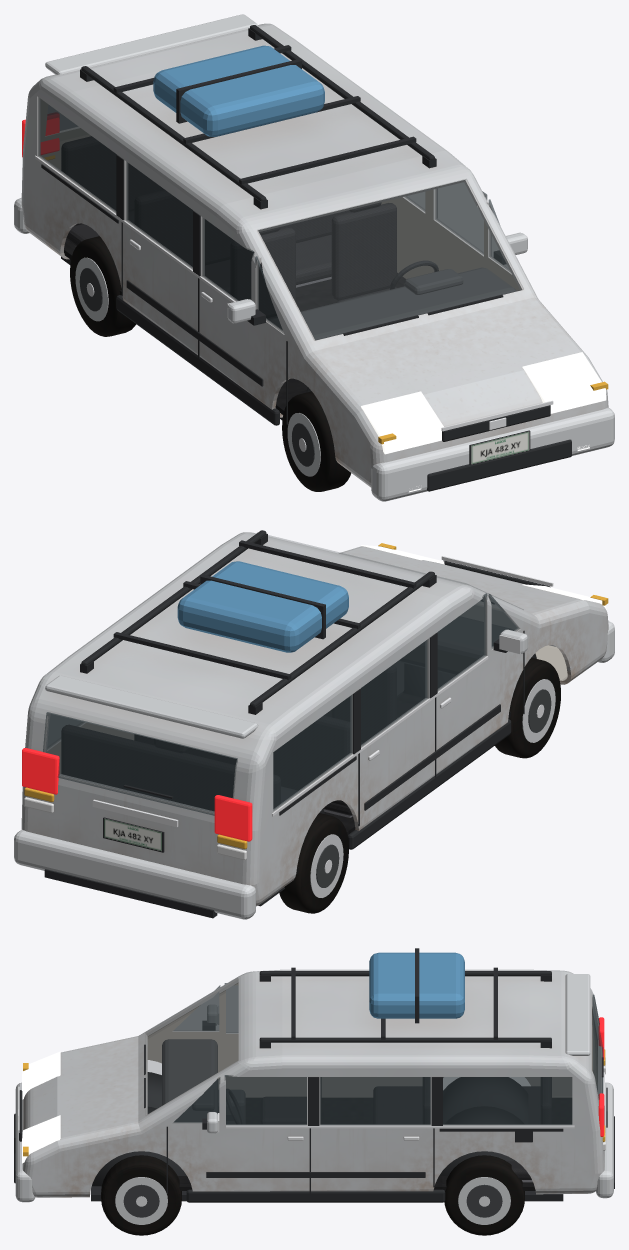
File: sienna.glb
3 views of the same model, one above another, from view 1: azimuth 30°, elevation 25°; view 2: azimuth 150°, elevation 25°; view 3: azimuth 270°, elevation 25° (orthographic). The views are drawn at different scales.
Visible parts, largest first — view 1: body, glass_windscreen, interior_seat_fabric_grey, sienna_root_black_plastic, sienna_root_glass, sienna_root_body_paint_silver, luggage_bag, interior_dashboard, sienna_root_headlamp_lens, sienna_body_inner, wheel_FR_tyre, wheel_RR_tyre (+7 smaller); view 2: body, sienna_root_glass, sienna_root_black_plastic, interior_seat_fabric_grey, sienna_root_body_paint_silver, luggage_bag, sienna_root_tail_red, interior_dashboard, wheel_RR_tyre, wheel_FR_tyre, sienna_root_chrome, sienna_root_number_plate (+9 smaller); view 3: body, sienna_root_glass, sienna_root_black_plastic, glass_windscreen, luggage_bag, sienna_body_inner, interior_seat_fabric_grey, sienna_root_body_paint_silver, interior_dashboard, wheel_FL_tyre, wheel_RL_tyre, floor (+7 smaller).
Part boxes in pixels (box(x1,y1,x2,y2)): body: box(21, 23, 608, 487); glass_windscreen: box(257, 179, 523, 340); interior_seat_fabric_grey: box(61, 136, 396, 319); sienna_root_black_plastic: box(41, 25, 571, 491); sienna_root_glass: box(38, 97, 510, 333); sienna_root_body_paint_silver: box(14, 14, 614, 501); luggage_bag: box(153, 45, 324, 136); interior_dashboard: box(269, 267, 516, 340); sienna_root_headlamp_lens: box(361, 352, 606, 492); sienna_body_inner: box(41, 99, 520, 413); wheel_FR_tyre: box(282, 391, 351, 491); wheel_RR_tyre: box(70, 236, 136, 336); body: box(21, 532, 608, 906); sienna_root_glass: box(43, 593, 519, 815); sienna_root_black_plastic: box(44, 530, 550, 918); interior_seat_fabric_grey: box(61, 665, 397, 815); sienna_root_body_paint_silver: box(14, 605, 614, 919); luggage_bag: box(177, 561, 348, 652); sienna_root_tail_red: box(22, 748, 252, 841); interior_dashboard: box(394, 616, 513, 697); wheel_RR_tyre: box(279, 813, 348, 913); wheel_FR_tyre: box(495, 657, 560, 758); sienna_root_chrome: box(92, 556, 553, 827); sienna_root_number_plate: box(104, 818, 161, 851); body: box(22, 969, 604, 1197); sienna_root_glass: box(173, 983, 603, 1125); sienna_root_black_plastic: box(14, 948, 614, 1202); glass_windscreen: box(145, 978, 238, 1114); luggage_bag: box(369, 952, 464, 1018); sienna_body_inner: box(147, 982, 597, 1097); interior_seat_fabric_grey: box(261, 1077, 551, 1179); sienna_root_body_paint_silver: box(15, 974, 613, 1202); interior_dashboard: box(162, 1039, 245, 1123); wheel_FL_tyre: box(101, 1155, 181, 1235); wheel_RL_tyre: box(444, 1155, 524, 1235); floor: box(178, 1098, 571, 1190).
Bounding box in the file's own units: 2.46 × 2.1 × 5.35.
19 materials, 5 textured.
